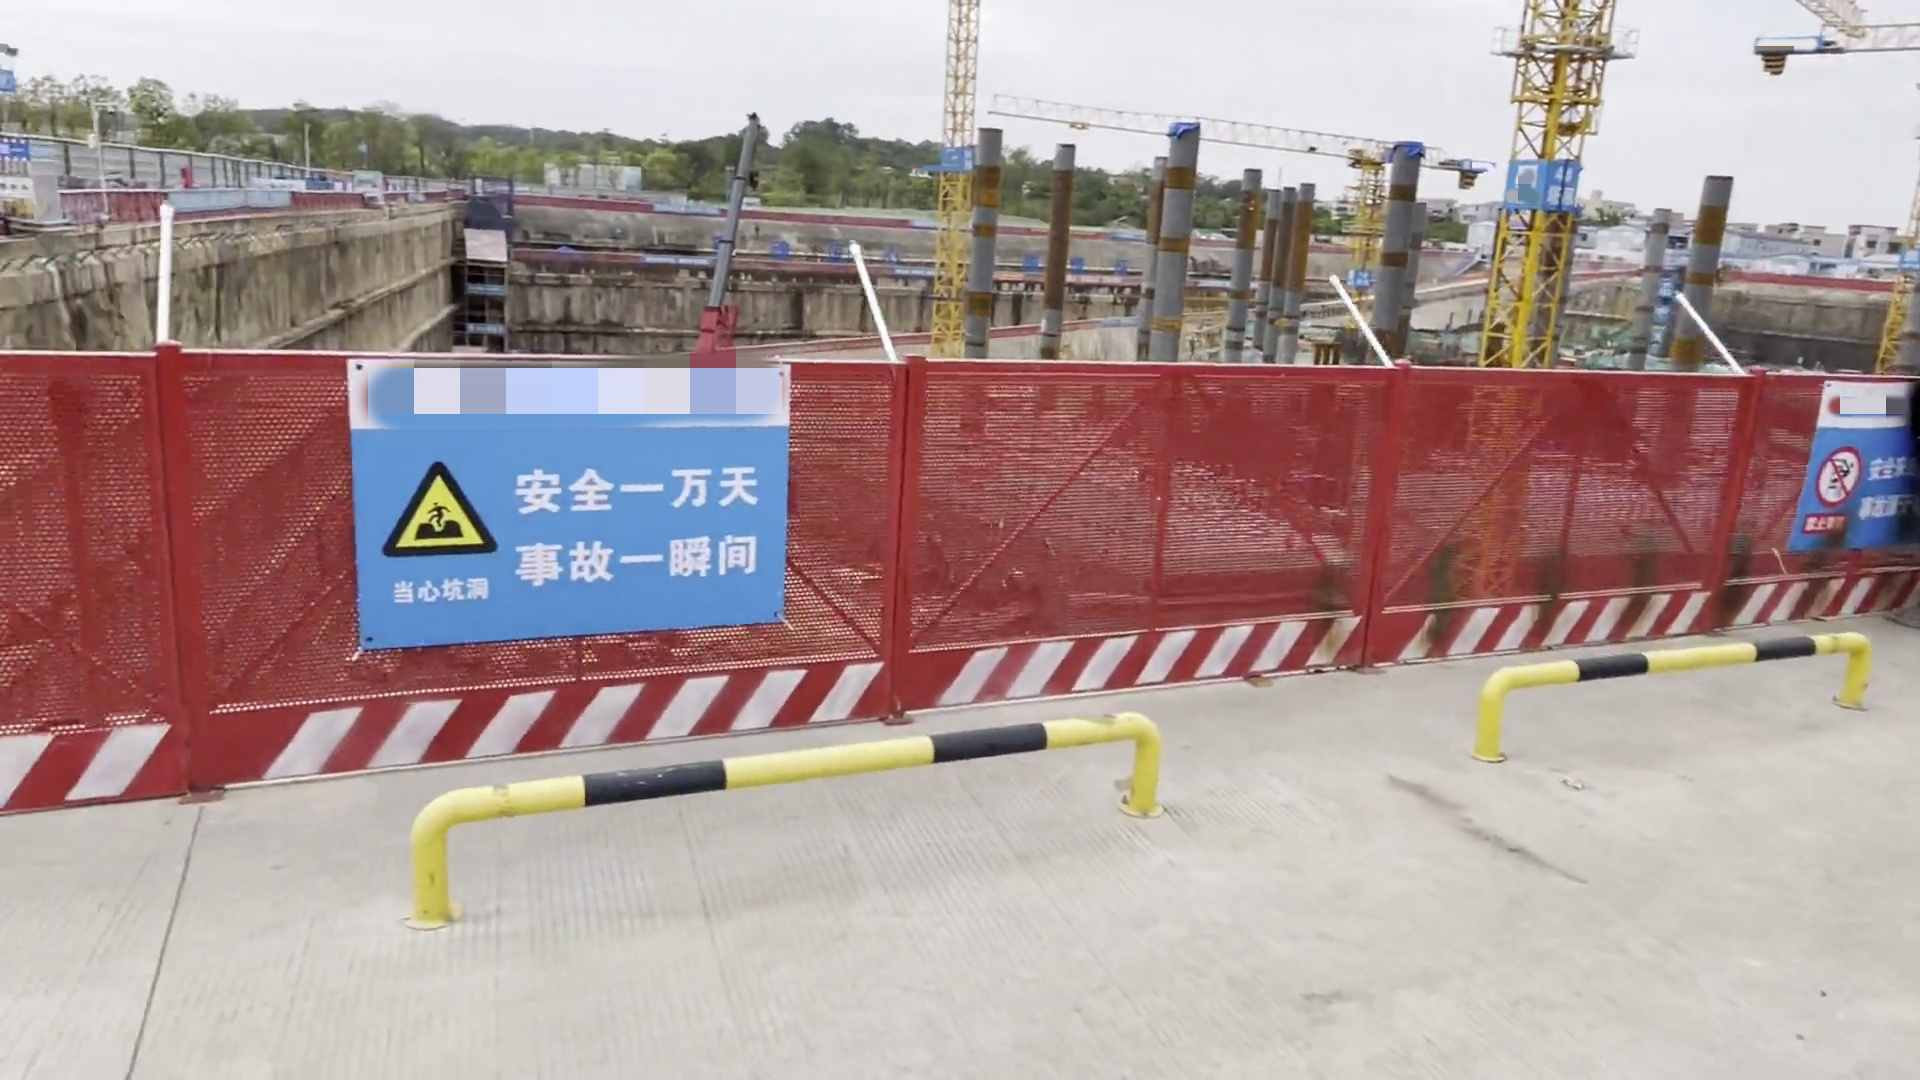fence: (1, 351, 897, 808), (909, 360, 1898, 692)
hook: (745, 171, 761, 193)
slogan: (344, 369, 791, 638), (1784, 377, 1916, 551), (165, 191, 290, 212), (1540, 161, 1575, 214), (891, 262, 943, 282), (651, 203, 719, 214), (644, 255, 707, 265), (953, 152, 973, 173), (993, 272, 1026, 284), (910, 218, 939, 229), (1195, 280, 1238, 287), (1346, 272, 1369, 285), (1064, 276, 1120, 281)
